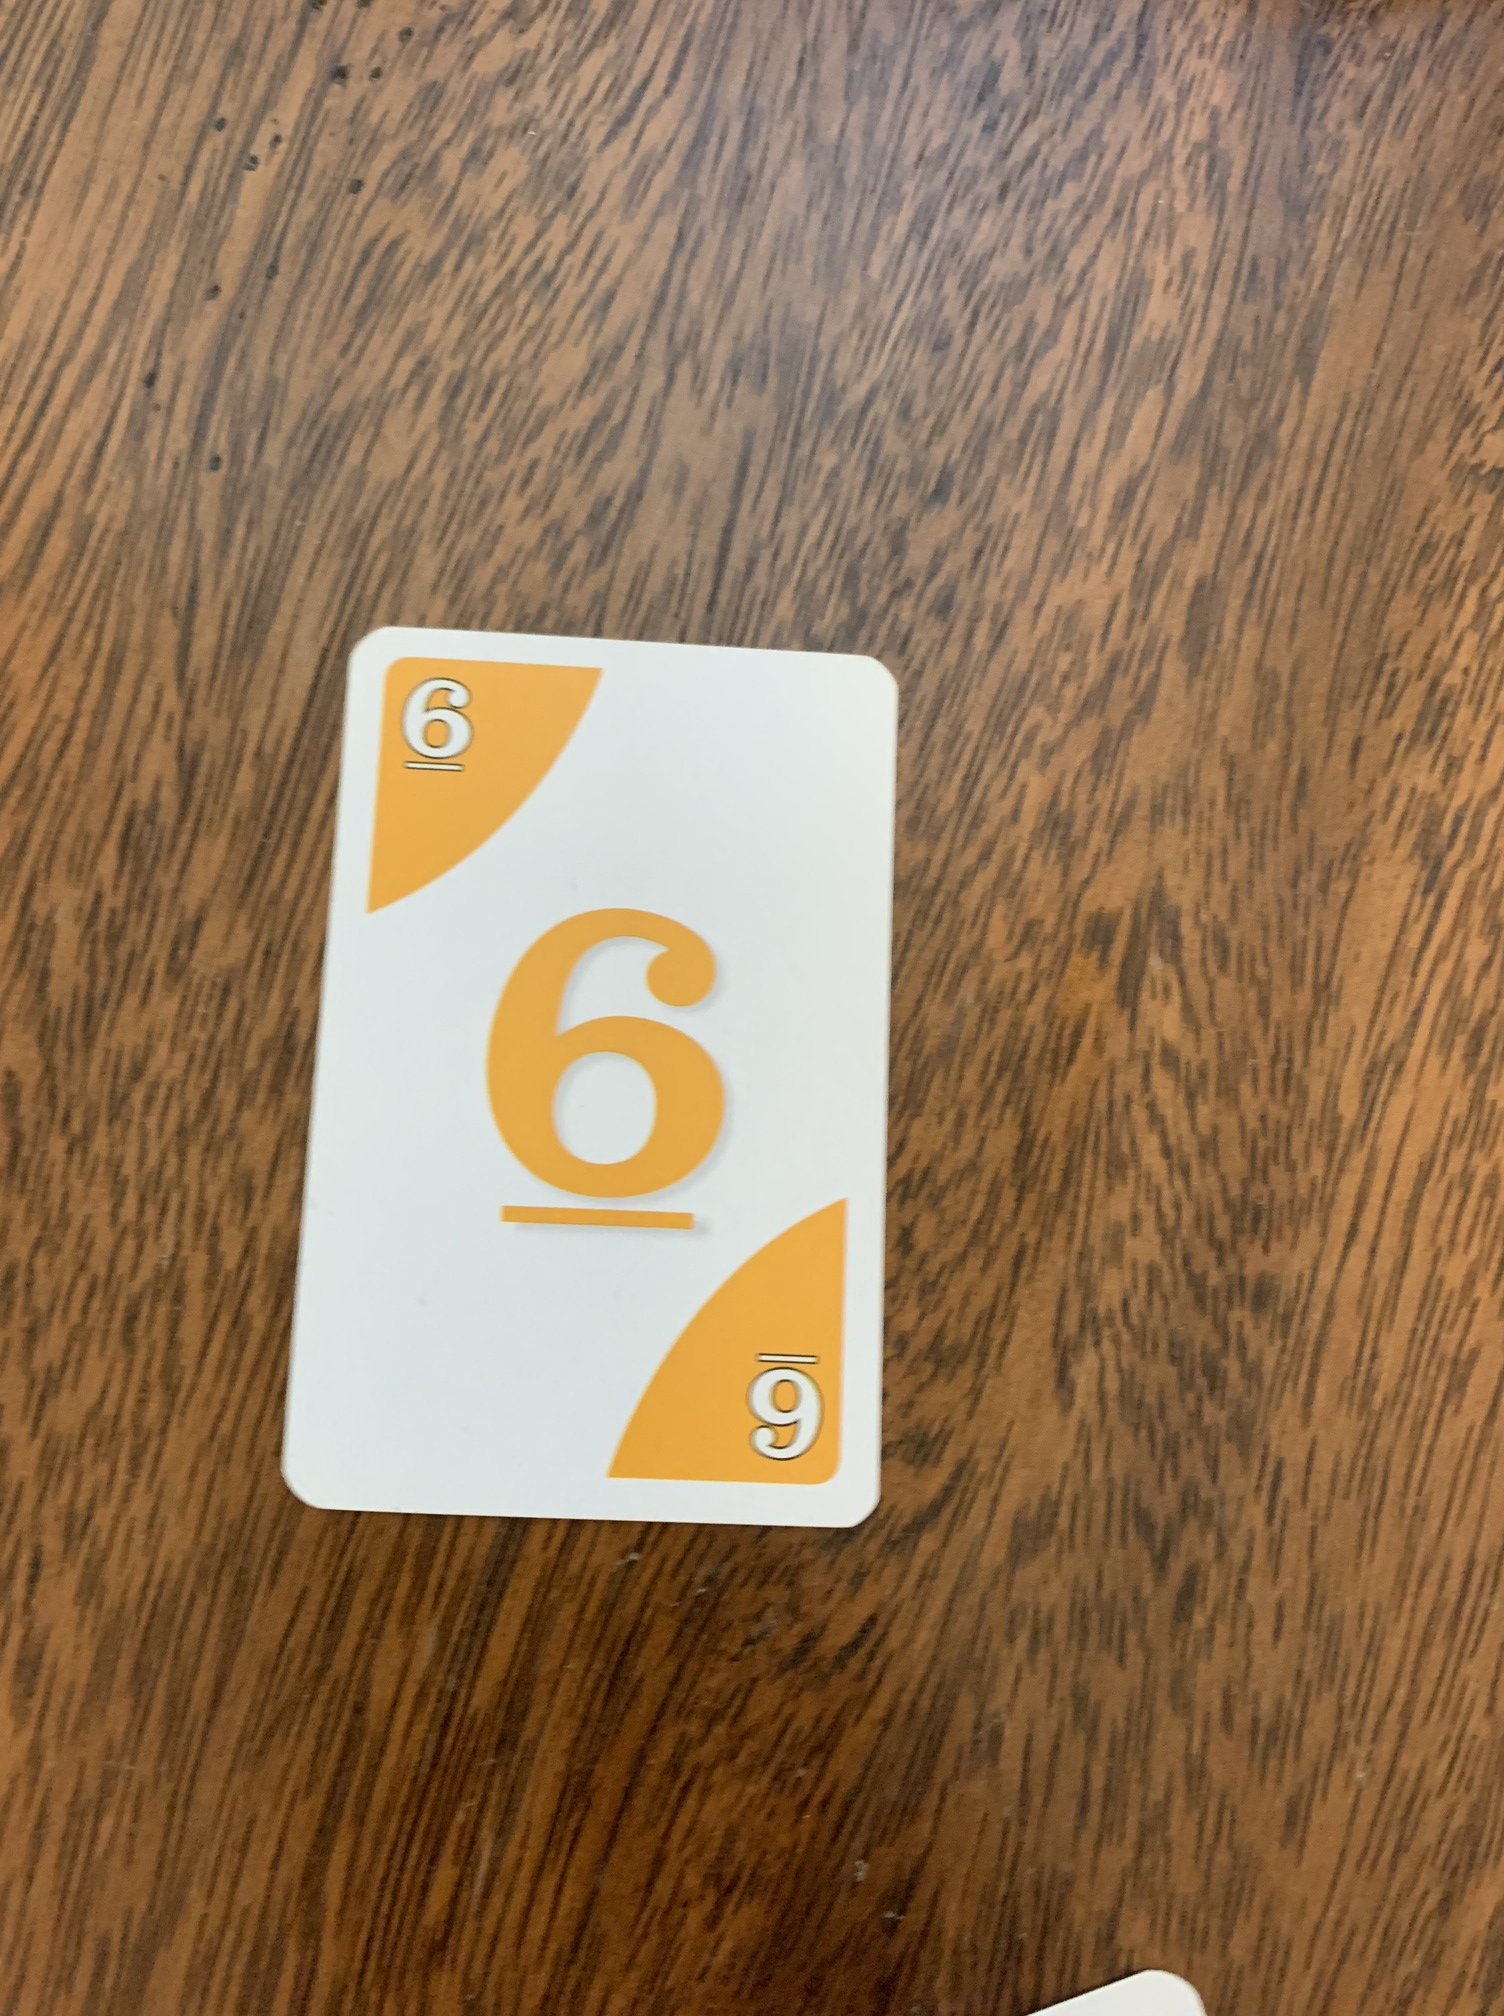six: (281, 618, 904, 1534)
